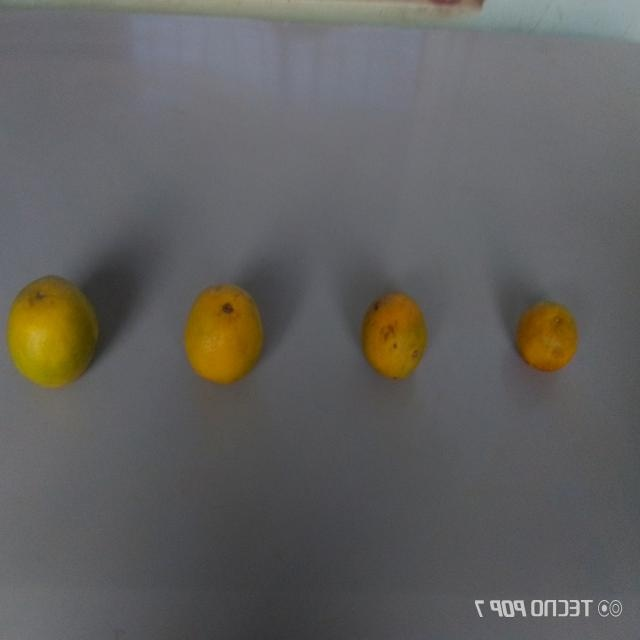agrume: (7, 264, 105, 394), (184, 280, 268, 388), (356, 282, 432, 386), (513, 300, 583, 376)
